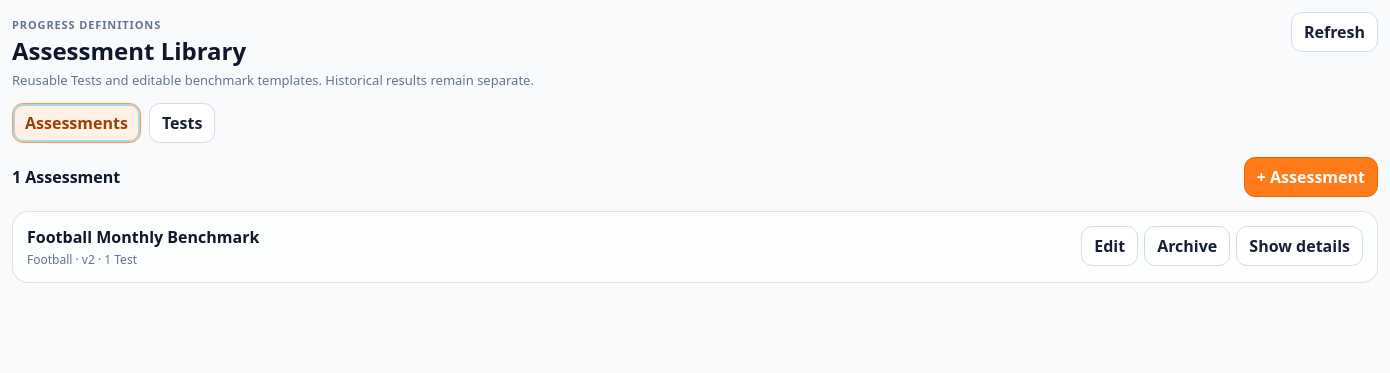
Test: AssessmentTemplateLibrary › loads definition-only library data and shows Assessment cards
This screenshot has width=1390, height=373.
Expected: the text "Football Monthly Benchmark" is shown, [27,226,259,248]
Expected: the text "1 Assessment" is shown, [12,166,120,188]
Click the button "Show details": click(1300, 246) [1236,226,1363,266]
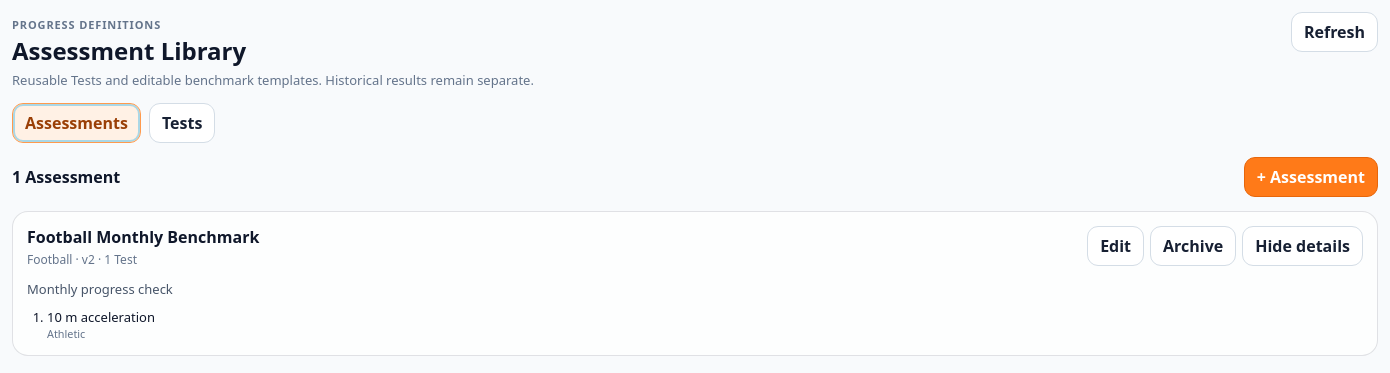
Expected: the text "Athletic" is shown, [47,326,85,341]
